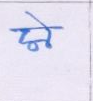o_matra: (37, 16, 54, 49)
